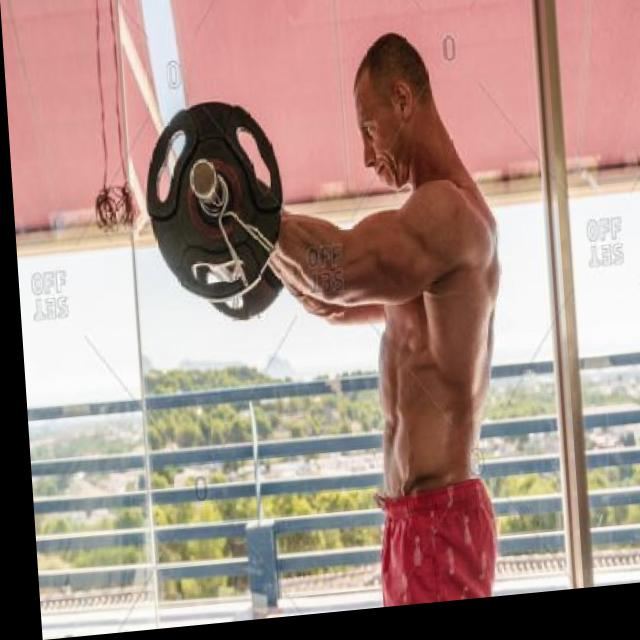barbell: (134, 95, 288, 313)
